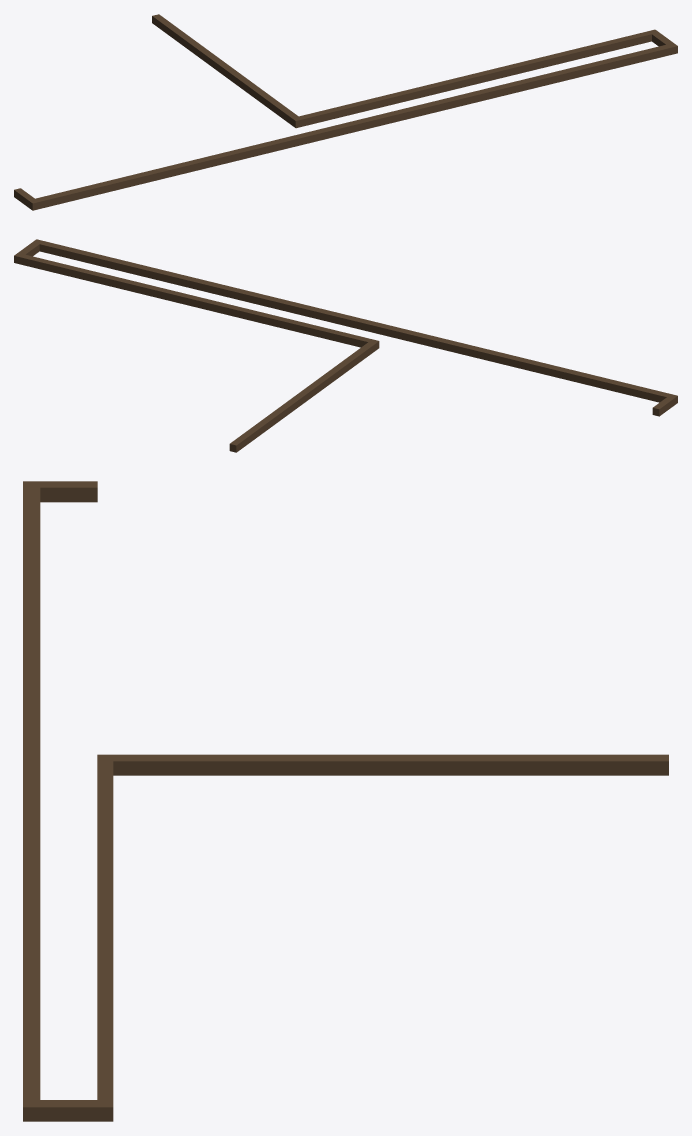
File: veneer_2.fbx
3 views of the same model, one above another, from view 1: azimuth 30°, elevation 25°; view 2: azimuth 150°, elevation 25°; view 3: azimuth 270°, elevation 25° (orthographic). The views are drawn at different scales.
Visible parts, largest first — view 1: Cube; view 2: Cube; view 3: Cube.
Part boxes in pixels (left/top/right/bottom): Cube: left=14, top=14, right=677, bottom=210; Cube: left=14, top=239, right=677, bottom=452; Cube: left=23, top=481, right=668, bottom=1121.
Bounding box in the file's own units: 2592 × 27.91 × 1130.
